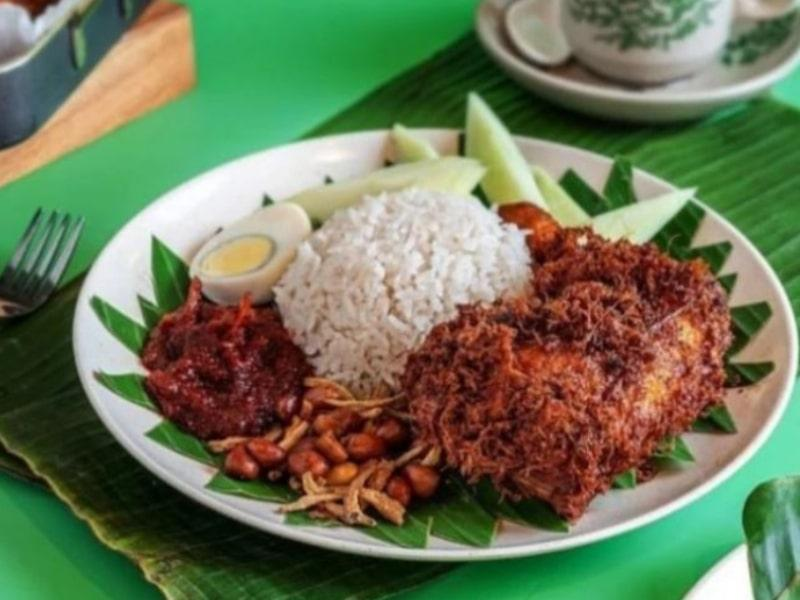Anchovies: (278, 468, 406, 526)
Boiled-Egg: (195, 204, 313, 307)
Cucumber: (282, 92, 696, 244)
Fried-Chicken: (405, 203, 730, 518)
Peanuts: (221, 383, 390, 492)
Rice: (274, 189, 532, 399)
Sambal: (146, 291, 308, 440)
